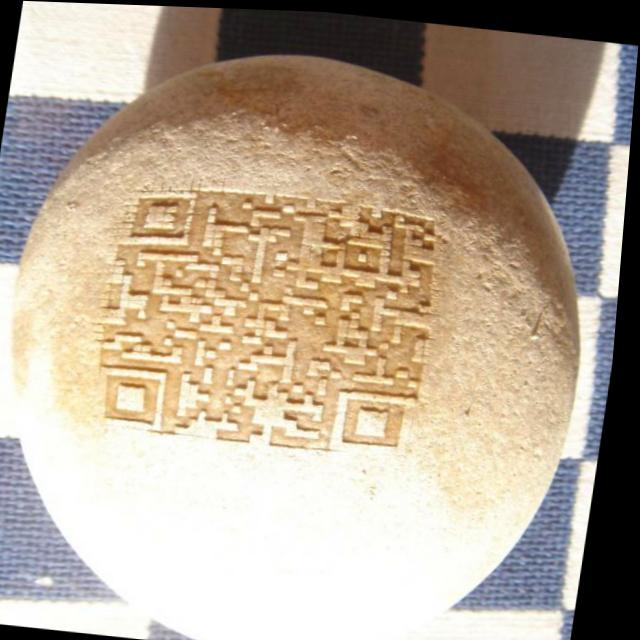qrcode: (96, 179, 451, 455)
